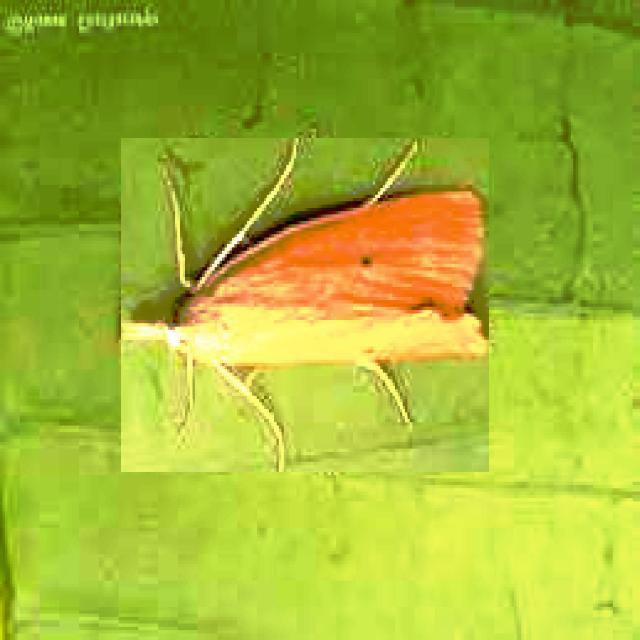stem-borer: (121, 138, 489, 472)
